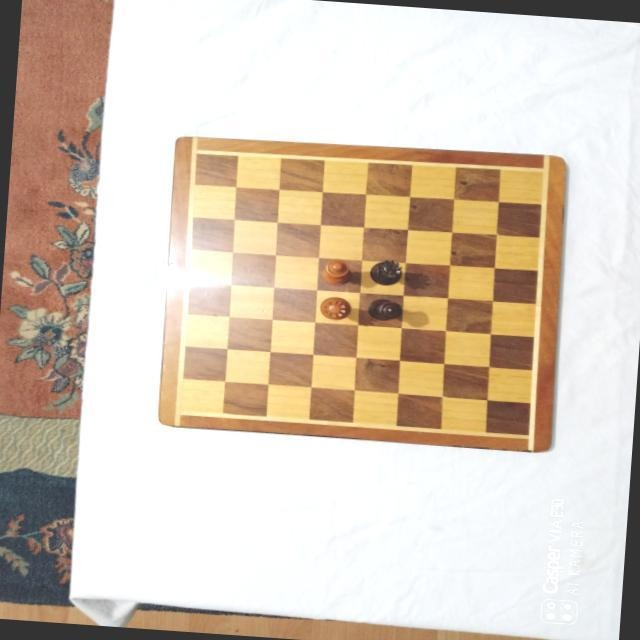black-king: (366, 297, 402, 321)
black-queen: (368, 258, 404, 286)
white-king: (319, 256, 352, 284)
white-queen: (316, 294, 351, 319)
